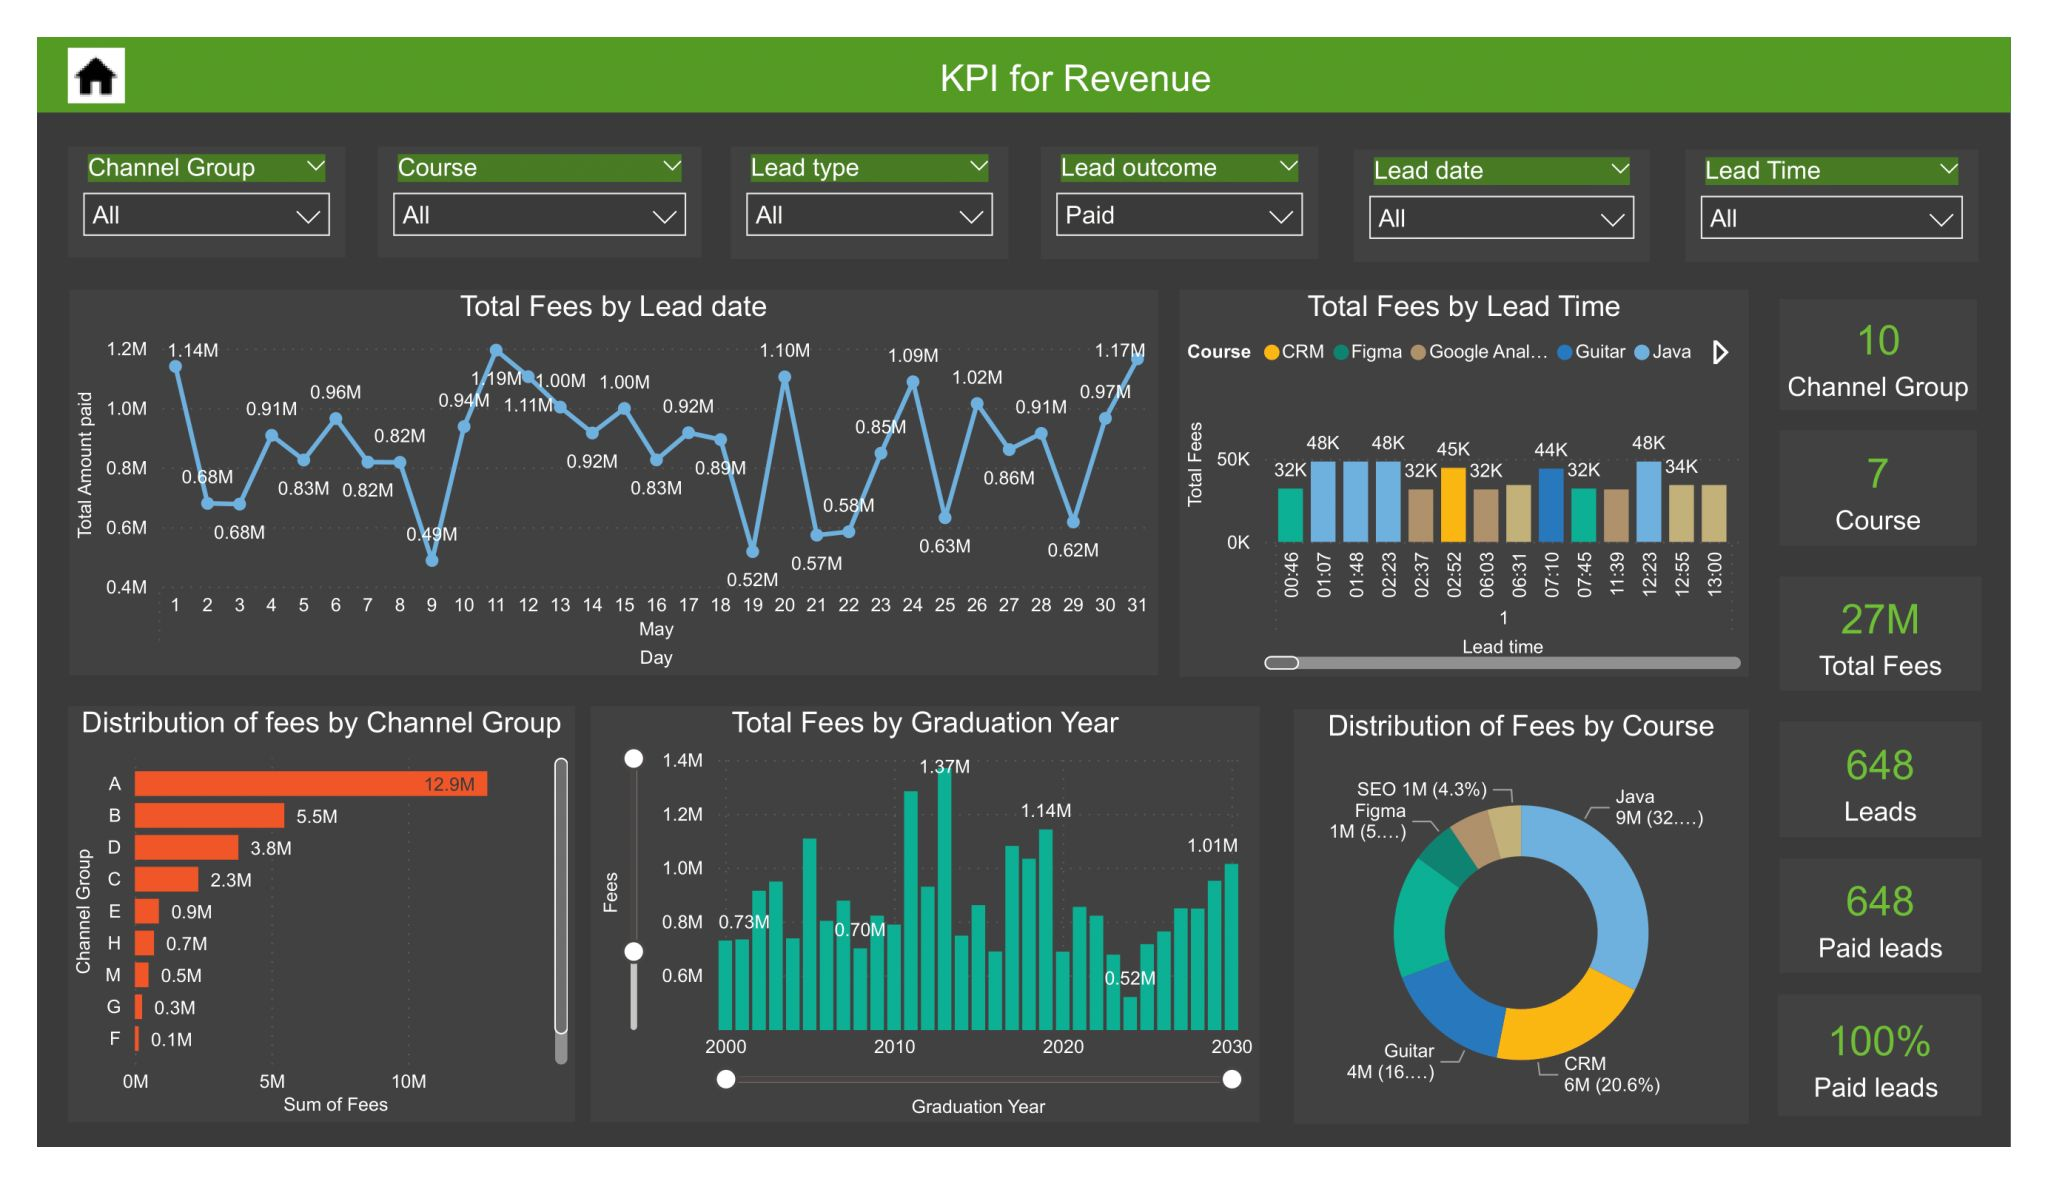

The page's visual inventory and layout, read from the dashboard file:
{"tool":"powerbi","page":{"name":"KPI for Revenue","canvas":[1280,720],"ordinal":1},"visuals":[{"type":"lineChart","title":"Total Fees by Lead date","fields":{"Y":["Sum(SDA_assignment (1) (2) (3) (1).Amount paid)"],"Category":["SDA_assignment (1) (2) (3) (1).Lead_date.Variation.Date Hierarchy.Month","SDA_assignment (1) (2) (3) (1).Lead_date.Variation.Date Hierarchy.Day"]},"box":[21.4,164.3,705.7,250],"z":0},{"type":"columnChart","title":"Total Fees by Graduation Year","fields":{"Category":["SDA_assignment (1) (2) (3) (1).Graduation Year"],"Y":["Sum(SDA_assignment (1) (2) (3) (1).Fees)"]},"box":[358.9,434.2,434.2,269.9],"z":1000},{"type":"clusteredBarChart","title":"Distribution of fees by Channel Group","fields":{"Category":["SDA_assignment (1) (2) (3) (1).Channel Group"],"Y":["Sum(SDA_assignment (1) (2) (3) (1).Fees)"]},"box":[20,434.3,328.6,270],"z":2000},{"type":"donutChart","title":"Distribution of Fees by Course","fields":{"Y":["Sum(SDA_assignment (1) (2) (3) (1).Amount paid)"],"Category":["SDA_assignment (1) (2) (3) (1).Course"]},"box":[815.1,435.6,294.5,269.9],"z":3000},{"type":"shape","box":[0,0,1280,49.2],"z":4000},{"type":"textbox","box":[501.5,7.7,343.1,52.3],"z":5000},{"type":"actionButton","box":[19.6,6.5,37.9,36.4],"z":6000},{"type":"card","fields":{"Values":["Sum(SDA_assignment (1) (2) (3) (1).Amount paid)"]},"box":[1129.9,349.6,131.4,74.3],"z":7000},{"type":"card","fields":{"Values":["Count(SDA_assignment (1) (2) (3) (1).Channel Group)"]},"box":[1129.9,169.6,128.6,72.9],"z":8000},{"type":"card","fields":{"Values":["Count(SDA_assignment (1) (2) (3) (1).Course)"]},"box":[1129.9,255.3,128.6,74.3],"z":9000},{"type":"card","fields":{"Values":["CountNonNull(SDA_assignment (1) (2) (3) (1).Lead id)"]},"box":[1130,444.3,131.4,74.3],"z":10000},{"type":"card","fields":{"Values":["SDA_assignment (1) (2) (3) (1).Paid leads percentage"]},"box":[1128.6,621.4,132.9,78.6],"z":11000},{"type":"card","fields":{"Values":["SDA_assignment (1) (2) (3) (1).Paid leads"]},"box":[1130,532.9,131.4,74.3],"z":12000},{"type":"slicer","fields":{"Values":["SDA_assignment (1) (2) (3) (1).Channel Group"]},"box":[20,71.4,180,71.4],"z":13000},{"type":"slicer","fields":{"Values":["SDA_assignment (1) (2) (3) (1).Course"]},"box":[221.4,71.4,210,71.4],"z":14000},{"type":"slicer","fields":{"Values":["SDA_assignment (1) (2) (3) (1).Lead type"]},"box":[450,71.4,180,72.9],"z":15000},{"type":"slicer","fields":{"Values":["SDA_assignment (1) (2) (3) (1).Lead outcome"]},"box":[651.4,71.4,180,72.9],"z":16000},{"type":"slicer","fields":{"Values":["SDA_assignment (1) (2) (3) (1).Lead_date"]},"box":[854.3,72.9,191.4,72.9],"z":17000},{"type":"slicer","fields":{"Values":["SDA_assignment (1) (2) (3) (1).Lead_time -Text"]},"box":[1068.6,72.9,190,72.9],"z":18000},{"type":"columnChart","title":"Total Fees by Lead Time","fields":{"Category":["SDA_assignment (1) (2) (3) (1).Lead_date.Variation.Date Hierarchy.Day","SDA_assignment (1) (2) (3) (1).Lead_time"],"Y":["Sum(SDA_assignment (1) (2) (3) (1).Fees)"],"Series":["SDA_assignment (1) (2) (3) (1).Course"]},"box":[741.1,164.4,368.5,250.7],"z":19001}]}

Visuals, with their boxes in screenshot pixels (x1, y1, x2, y2), scaled from the page's 1280x720 canvas onto the 2048x1184 screenshot:
"Total Fees by Lead date" lineChart: locate(34, 270, 1163, 681)
"Total Fees by Graduation Year" columnChart: locate(574, 714, 1269, 1158)
"Distribution of fees by Channel Group" clusteredBarChart: locate(32, 714, 558, 1158)
"Distribution of Fees by Course" donutChart: locate(1304, 716, 1775, 1160)
shape: locate(0, 0, 2047, 81)
textbox: locate(802, 13, 1351, 99)
actionButton: locate(31, 11, 92, 71)
card - Sum(SDA_assignment (1) (2) (3) (1).Amount paid): locate(1808, 575, 2018, 697)
card - Count(SDA_assignment (1) (2) (3) (1).Channel Group): locate(1808, 279, 2014, 399)
card - Count(SDA_assignment (1) (2) (3) (1).Course): locate(1808, 420, 2014, 542)
card - CountNonNull(SDA_assignment (1) (2) (3) (1).Lead id): locate(1808, 731, 2018, 853)
card - SDA_assignment (1) (2) (3) (1).Paid leads percentage: locate(1806, 1022, 2018, 1151)
card - SDA_assignment (1) (2) (3) (1).Paid leads: locate(1808, 876, 2018, 999)
slicer - SDA_assignment (1) (2) (3) (1).Channel Group: locate(32, 117, 320, 235)
slicer - SDA_assignment (1) (2) (3) (1).Course: locate(354, 117, 690, 235)
slicer - SDA_assignment (1) (2) (3) (1).Lead type: locate(720, 117, 1008, 237)
slicer - SDA_assignment (1) (2) (3) (1).Lead outcome: locate(1042, 117, 1330, 237)
slicer - SDA_assignment (1) (2) (3) (1).Lead_date: locate(1367, 120, 1673, 240)
slicer - SDA_assignment (1) (2) (3) (1).Lead_time -Text: locate(1710, 120, 2014, 240)
"Total Fees by Lead Time" columnChart: locate(1186, 270, 1775, 683)
